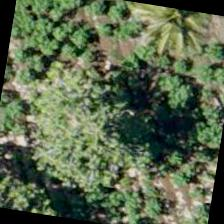Kelapa_Sawit: (119, 1, 216, 63)
